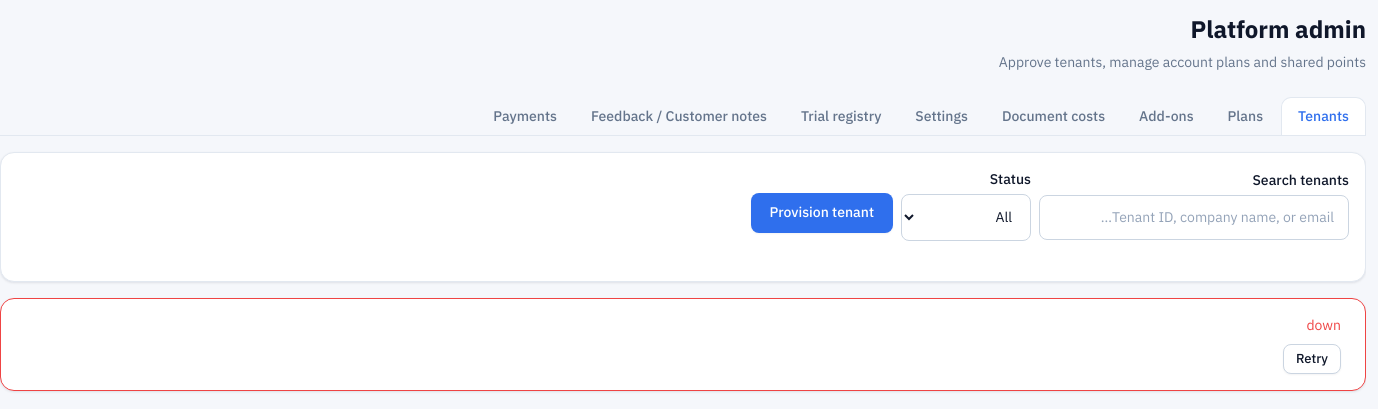
Test: platform admin page › retries a non-403 tenant load error
The image size is (1378, 409).
Expected: the message shows "down", [1306,315,1341,336]
Click the button "Retry" at (1312, 359), box [1283,344,1341,374]
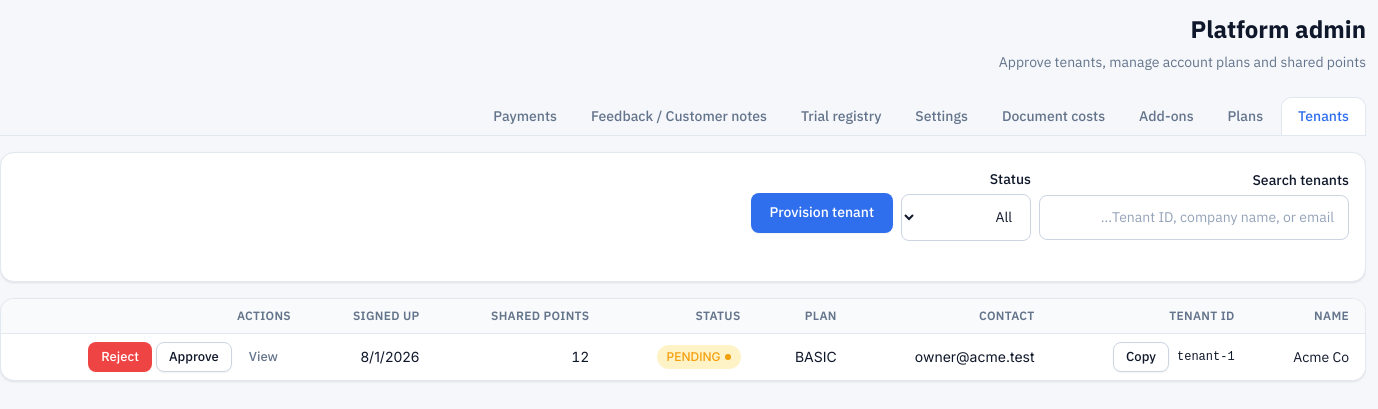
Result: the text "Acme Co" is shown at [1251,334,1365,380]
